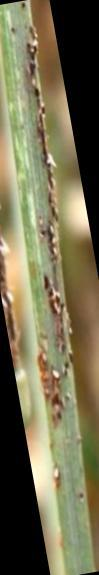Wheat: (32, 341, 71, 428), (43, 463, 73, 505), (41, 275, 67, 318), (39, 224, 61, 260), (25, 33, 37, 98), (38, 120, 44, 163)
